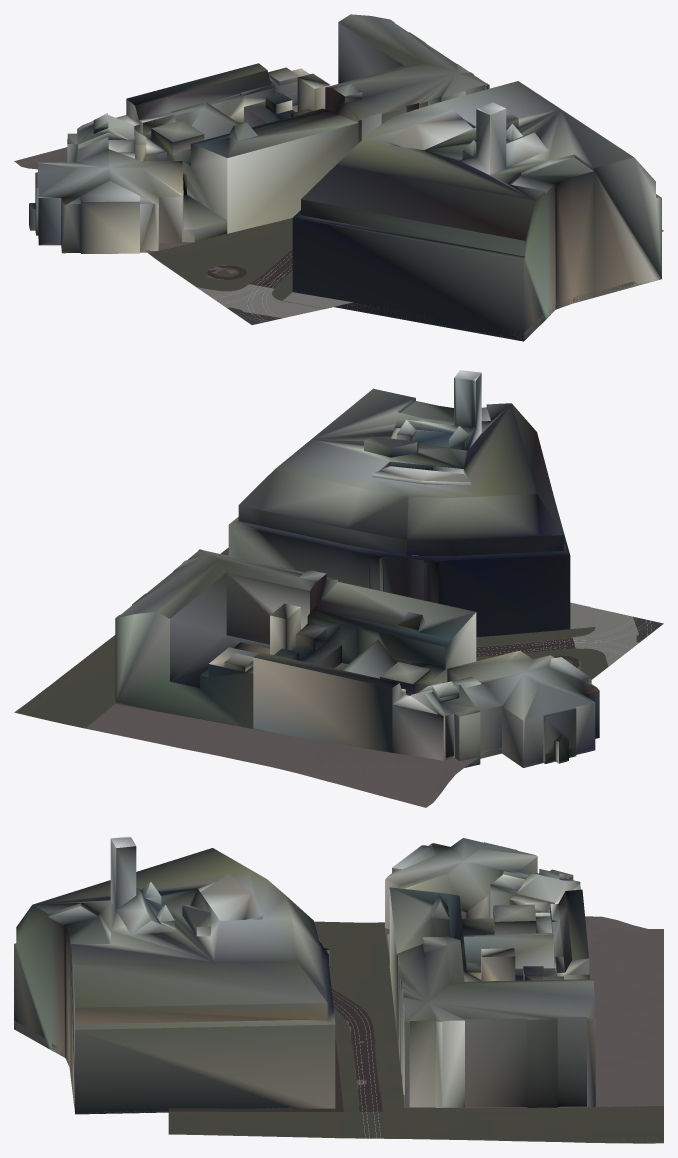
The picture shows the model from 3 angles, top to bottom: view 1: azimuth 30°, elevation 25°; view 2: azimuth 150°, elevation 25°; view 3: azimuth 270°, elevation 25°; orthographic projection. The views are drawn at different scales.
Visible parts, largest first — view 1: c_m05_p00; view 2: c_m05_p00; view 3: c_m05_p00.
Part boxes in pixels (x1,y1,x2,y2): c_m05_p00: (14,14,663,341); c_m05_p00: (14,370,663,807); c_m05_p00: (14,836,663,1143).
Bounding box in the file's own units: 150 × 57.74 × 168.
